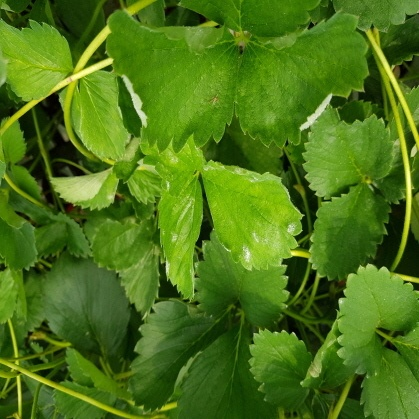Powdery_Leaf: (105, 47, 239, 410), (235, 58, 370, 409), (200, 147, 305, 259), (137, 149, 207, 284), (48, 168, 119, 249), (158, 117, 204, 240)
